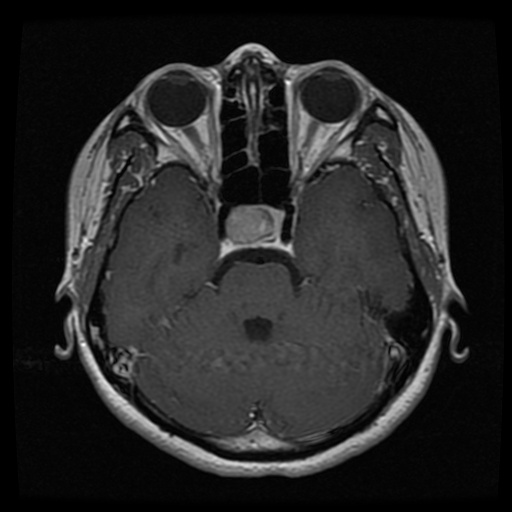pituitary: (226, 204, 275, 242)
